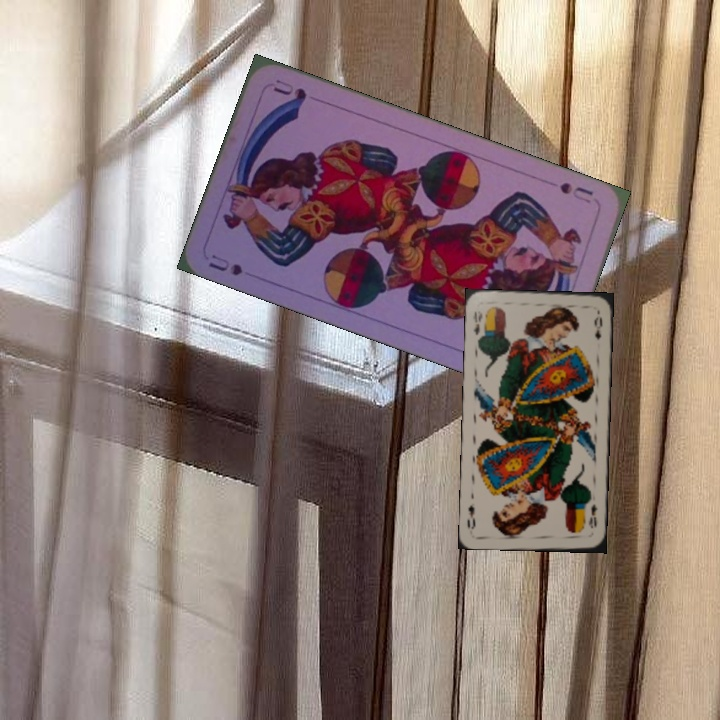EO: (469, 307, 485, 338), (585, 500, 600, 530)
SU: (204, 250, 245, 279), (555, 178, 596, 206)
